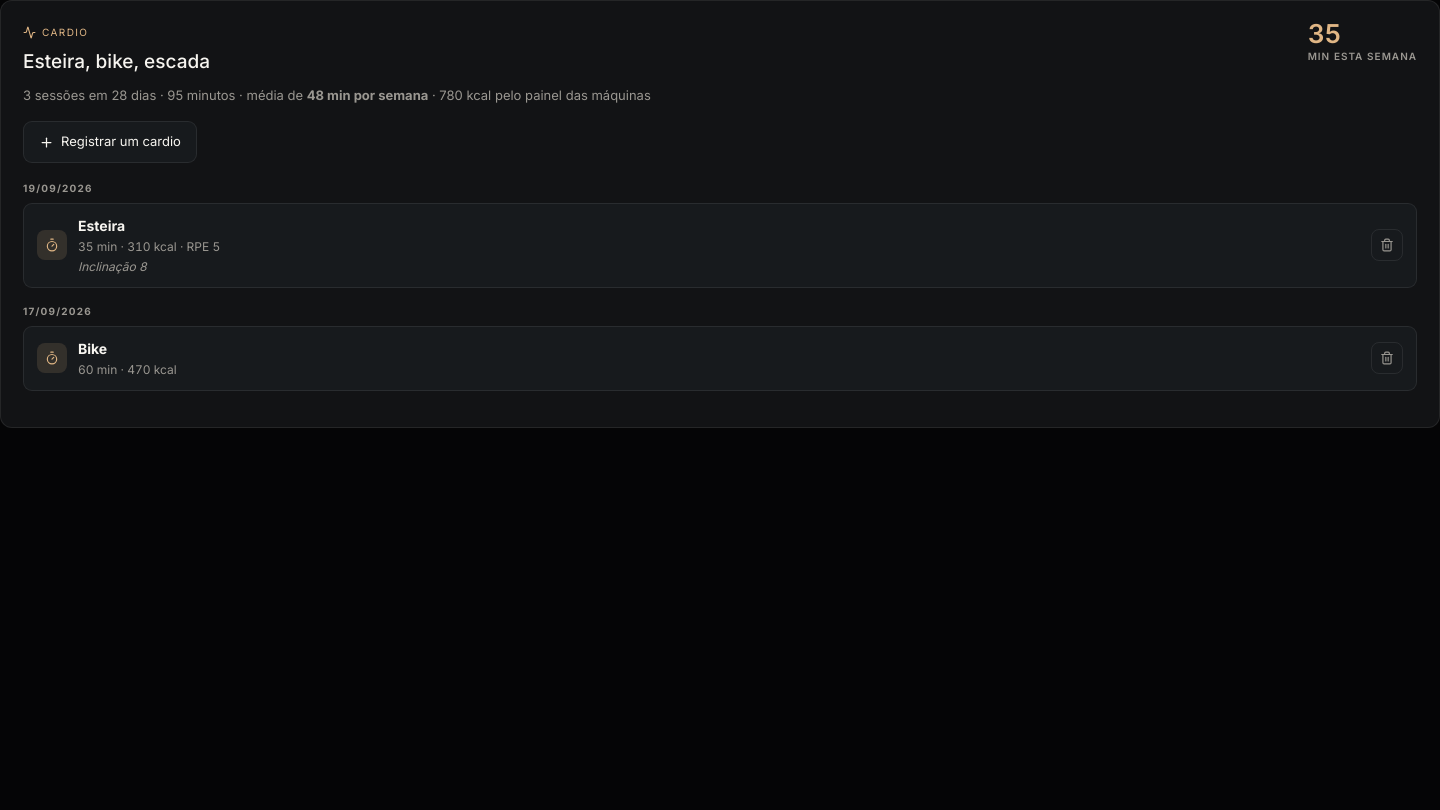
Scenario: aba de cardio › a tela diz que a caloria da máquina não vira comida
Click the button "Registrar um cardio" at [110, 142], box [23,121,197,163]
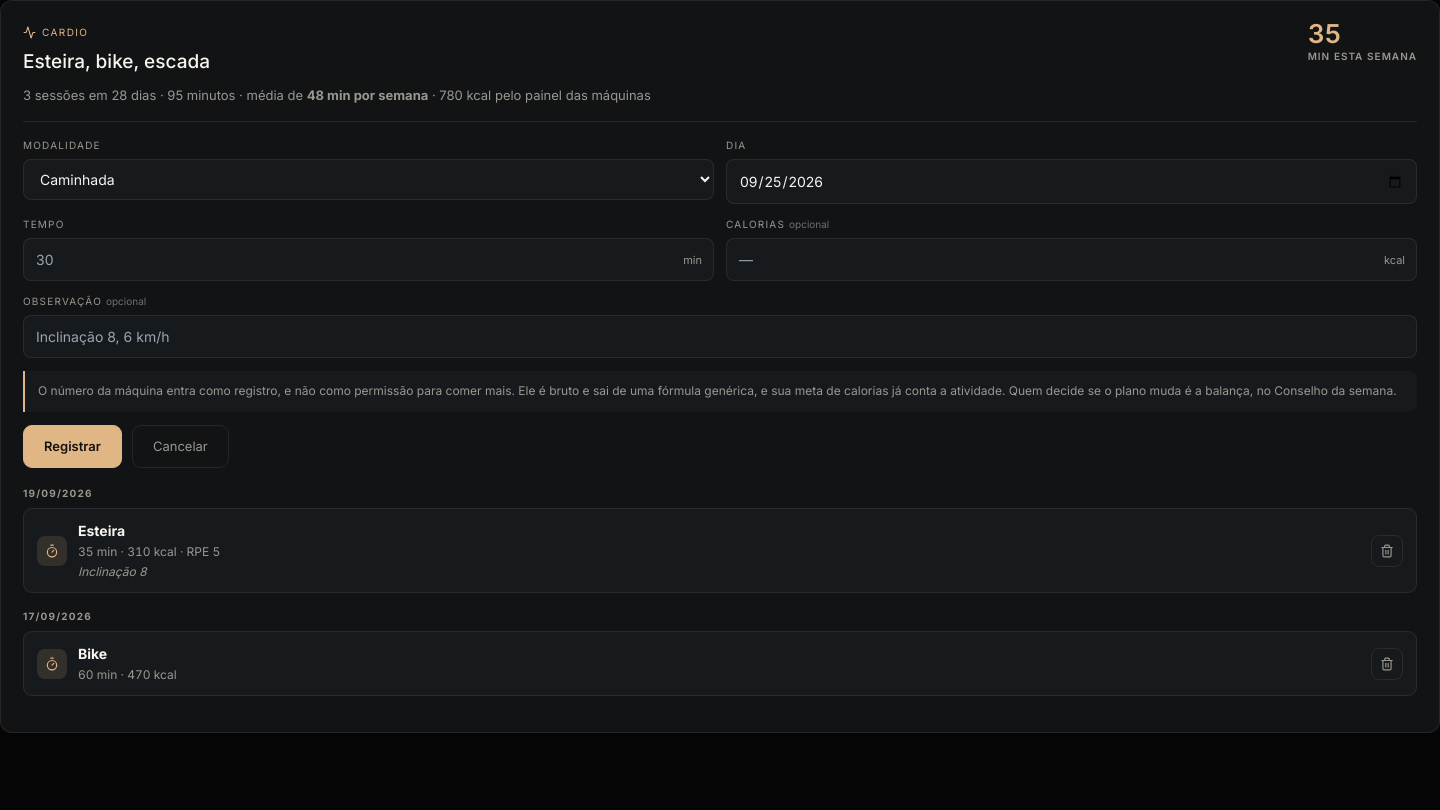
Check: the text with class "cardio-aviso" shows "não como permissão para comer mais", box [38,383,1397,398]
Check: the text with class "cardio-aviso" shows "balança", box [38,383,1397,398]
